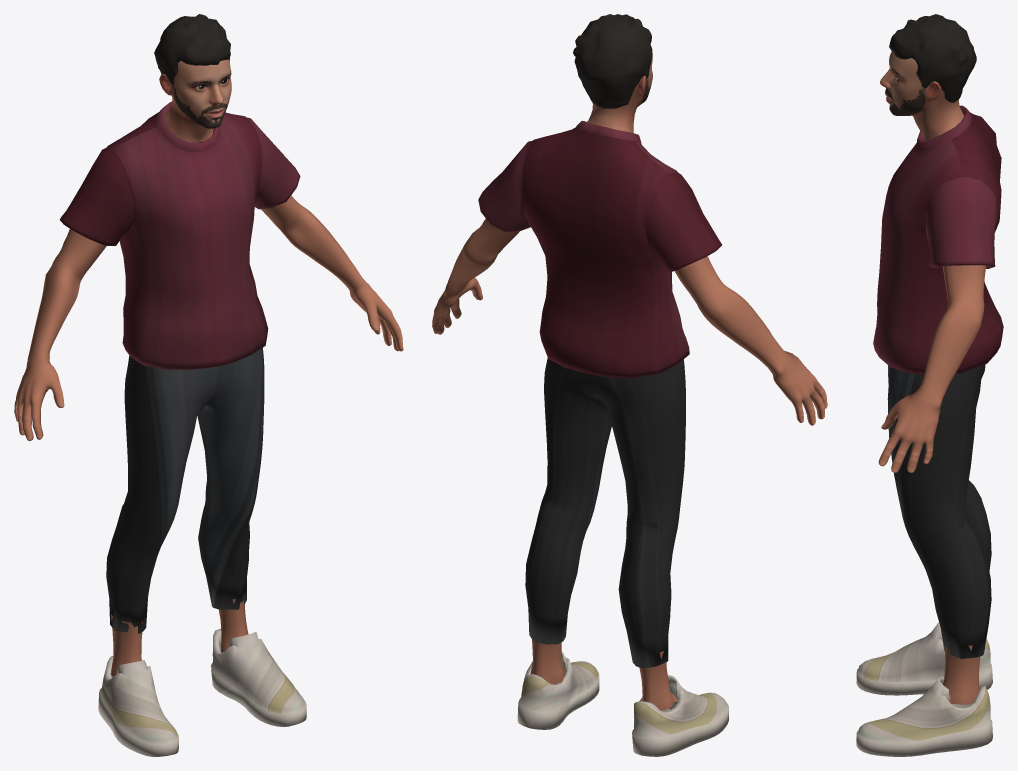
Rendered from perso.gltf.
3 views of the same model, side by side, from view 1: azimuth 30°, elevation 25°; view 2: azimuth 150°, elevation 25°; view 3: azimuth 270°, elevation 25° (orthographic).
Visible parts, largest first — view 1: Wolf3D_Outfit_Top, Wolf3D_Outfit_Bottom, Wolf3D_Body, Wolf3D_Outfit_Footwear, Wolf3D_Head, Wolf3D_Hair; view 2: Wolf3D_Outfit_Top, Wolf3D_Outfit_Bottom, Wolf3D_Body, Wolf3D_Outfit_Footwear, Wolf3D_Hair, Wolf3D_Head; view 3: Wolf3D_Outfit_Top, Wolf3D_Outfit_Bottom, Wolf3D_Outfit_Footwear, Wolf3D_Body, Wolf3D_Hair, Wolf3D_Head.
Part boxes in pixels (bbox=[...]): Wolf3D_Outfit_Top: bbox=[60, 101, 300, 369]; Wolf3D_Outfit_Bottom: bbox=[106, 348, 264, 633]; Wolf3D_Body: bbox=[14, 195, 403, 676]; Wolf3D_Outfit_Footwear: bbox=[98, 628, 306, 756]; Wolf3D_Head: bbox=[159, 59, 231, 142]; Wolf3D_Hair: bbox=[154, 14, 230, 84]; Wolf3D_Outfit_Top: bbox=[478, 121, 721, 378]; Wolf3D_Outfit_Bottom: bbox=[525, 358, 685, 668]; Wolf3D_Body: bbox=[432, 218, 827, 710]; Wolf3D_Outfit_Footwear: bbox=[517, 651, 728, 756]; Wolf3D_Hair: bbox=[573, 14, 652, 108]; Wolf3D_Head: bbox=[586, 56, 652, 132]; Wolf3D_Outfit_Top: bbox=[873, 105, 1003, 374]; Wolf3D_Outfit_Bottom: bbox=[887, 364, 991, 658]; Wolf3D_Outfit_Footwear: bbox=[856, 622, 992, 756]; Wolf3D_Body: bbox=[878, 265, 985, 704]; Wolf3D_Hair: bbox=[889, 14, 976, 102]; Wolf3D_Head: bbox=[880, 51, 964, 140].
Bounding box in the file's own units: 1.06 × 1.87 × 0.358.
Materials: 9 (9 with a texture image).
